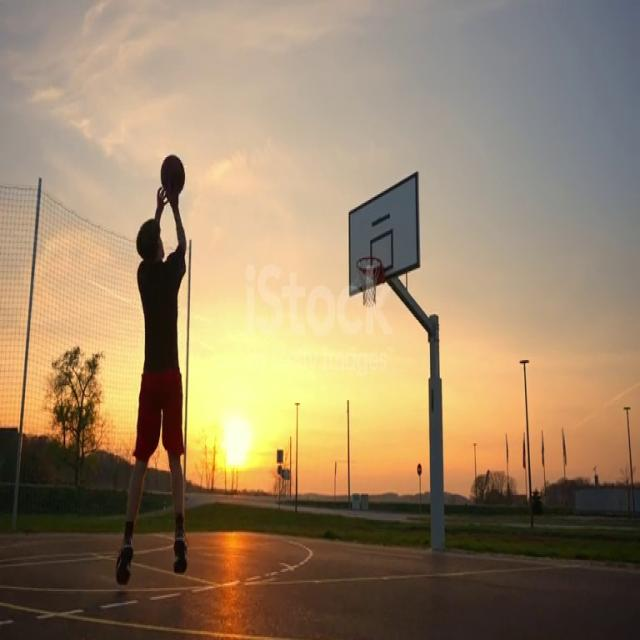ball: (160, 156, 185, 198)
